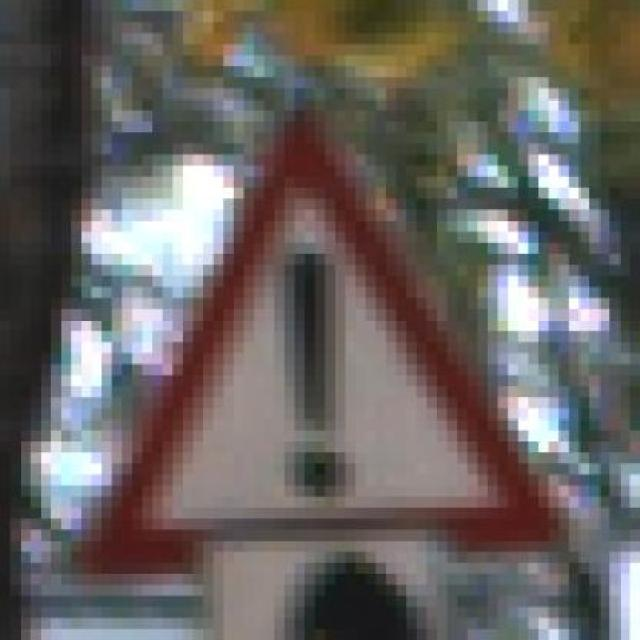Attention Please-: (50, 89, 568, 597)
